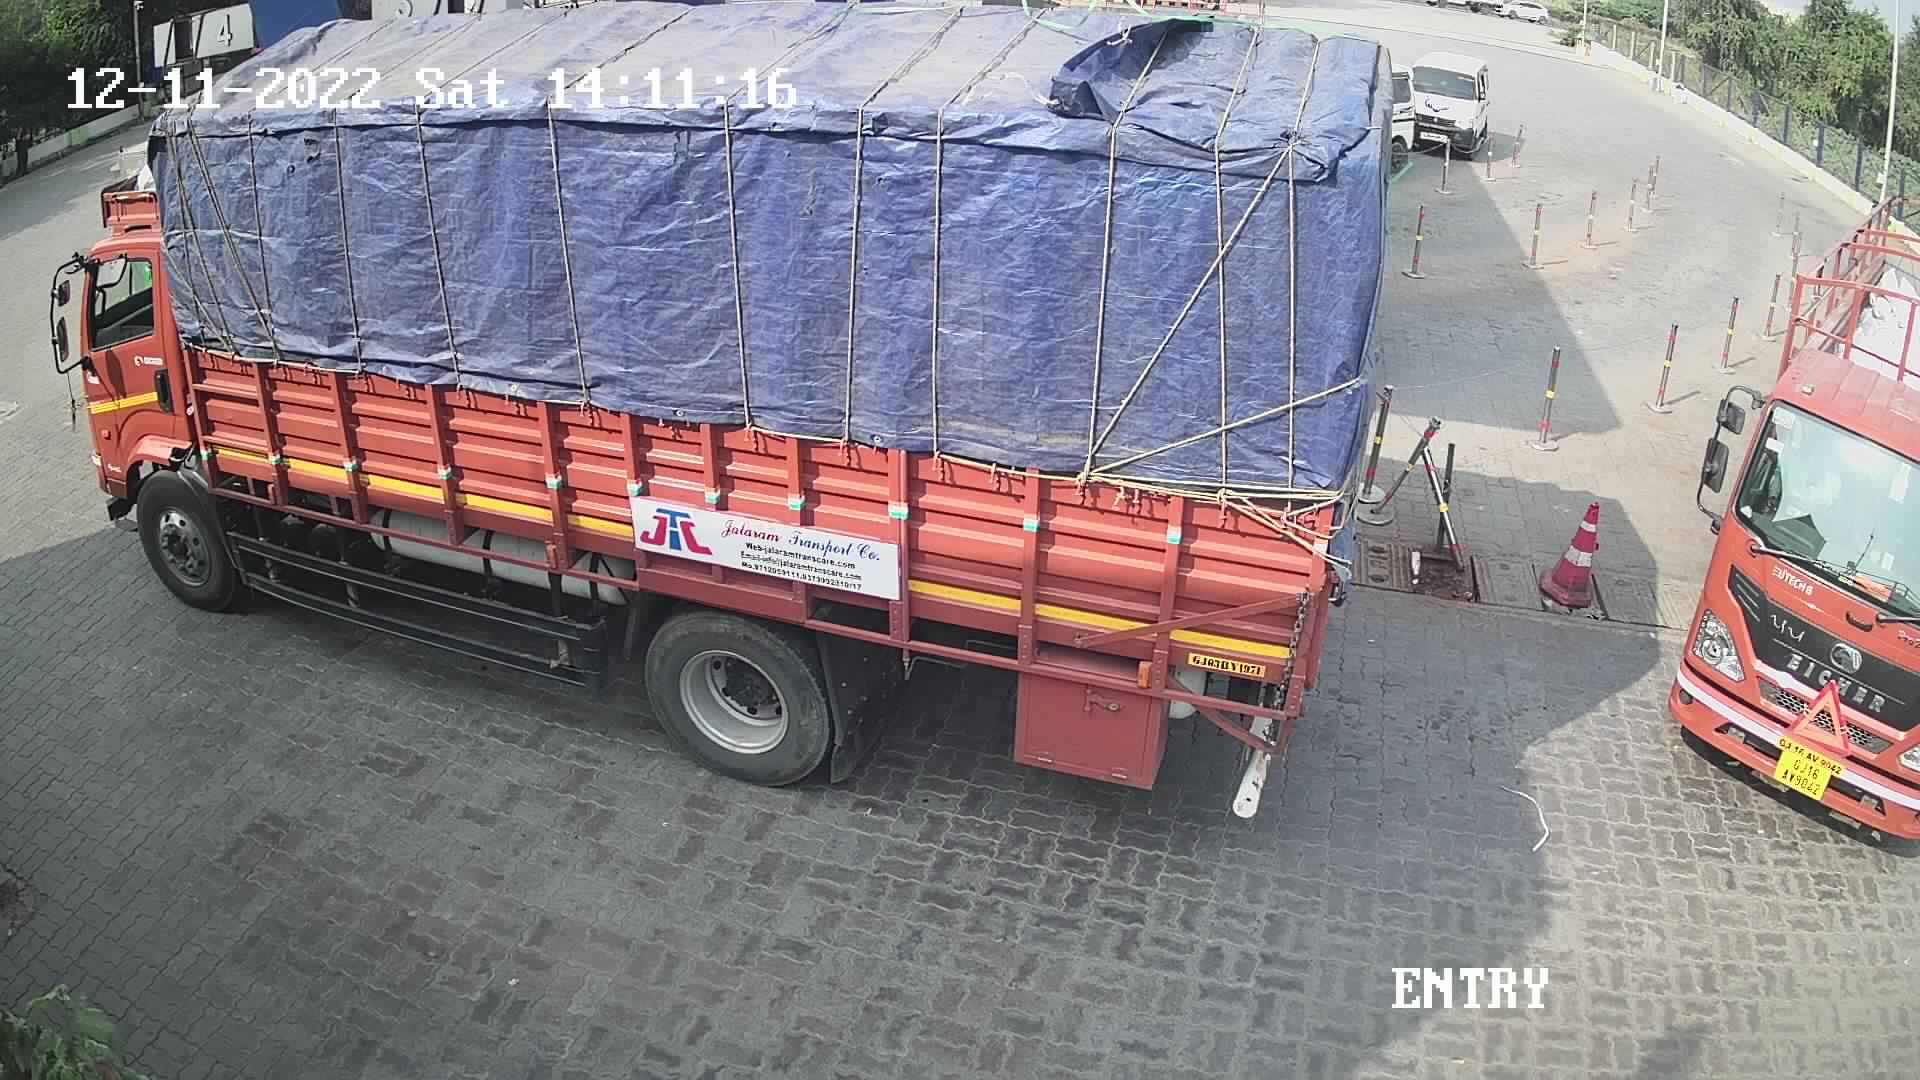Car: (1403, 47, 1495, 164), (1375, 53, 1424, 179)
HMV: (18, 0, 1408, 833), (1671, 129, 1920, 841)
